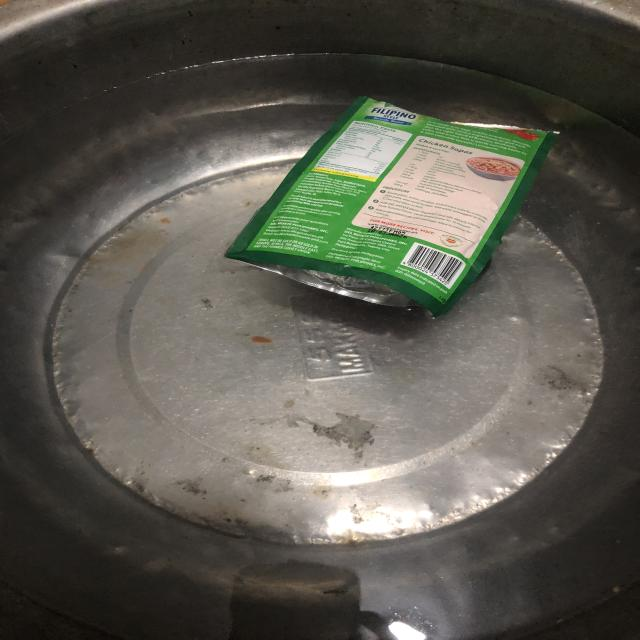Plastic Pouch: (201, 73, 582, 332)
